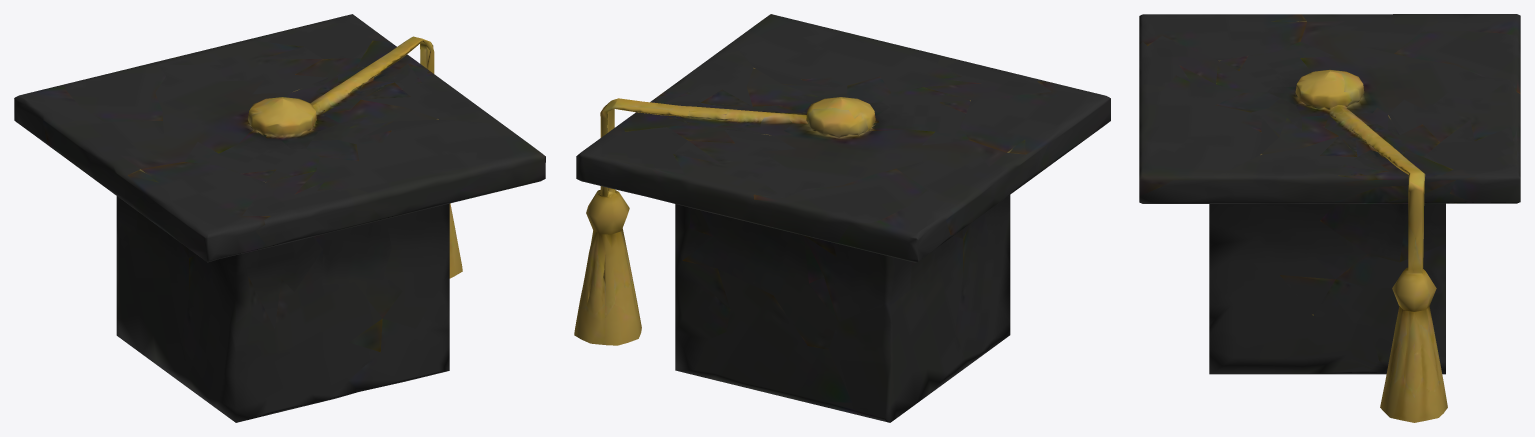
The model's file is education.glb.
3 views of the same model, side by side, from view 1: azimuth 30°, elevation 25°; view 2: azimuth 150°, elevation 25°; view 3: azimuth 270°, elevation 25° (orthographic).
Visible parts, largest first — view 1: tripo_node_c3d8ccc9-9328-4d67-99ef-9918d78211f1; view 2: tripo_node_c3d8ccc9-9328-4d67-99ef-9918d78211f1; view 3: tripo_node_c3d8ccc9-9328-4d67-99ef-9918d78211f1.
Boxes of the visible parts, x1=… form: tripo_node_c3d8ccc9-9328-4d67-99ef-9918d78211f1: x1=14, y1=14, x2=545, y2=422; tripo_node_c3d8ccc9-9328-4d67-99ef-9918d78211f1: x1=574, y1=14, x2=1110, y2=422; tripo_node_c3d8ccc9-9328-4d67-99ef-9918d78211f1: x1=1139, y1=14, x2=1520, y2=422.
Bounding box in the file's own units: 2 × 1.23 × 1.69.
Materials: 1 (1 with a texture image).
